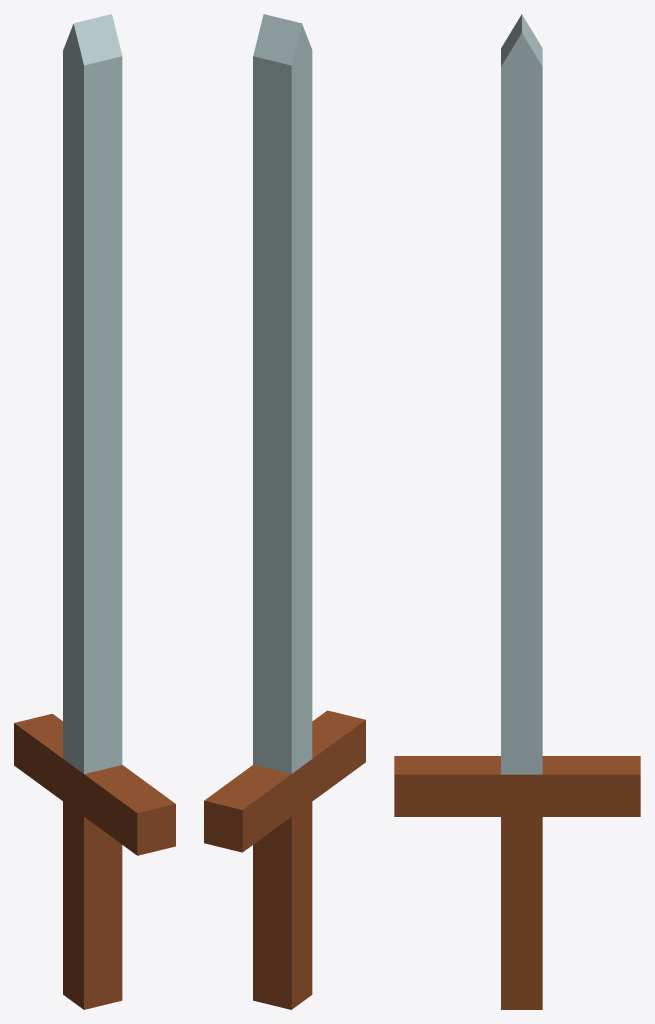
The model's file is Sword.fbx.
3 renders of one model, left to right at view 1: azimuth 30°, elevation 25°; view 2: azimuth 150°, elevation 25°; view 3: azimuth 270°, elevation 25°, orthographic.
Visible parts, largest first — view 1: Cube.001, Cube; view 2: Cube.001, Cube; view 3: Cube.001, Cube.
Boxes of the visible parts, x1=… form: Cube.001: x1=63, y1=14, x2=122, y2=773; Cube: x1=14, y1=713, x2=175, y2=1009; Cube.001: x1=253, y1=14, x2=312, y2=773; Cube: x1=204, y1=710, x2=365, y2=1009; Cube.001: x1=501, y1=14, x2=542, y2=774; Cube: x1=394, y1=756, x2=640, y2=1009.
Bounding box in the file's own units: 16.75 × 408 × 93.18.
